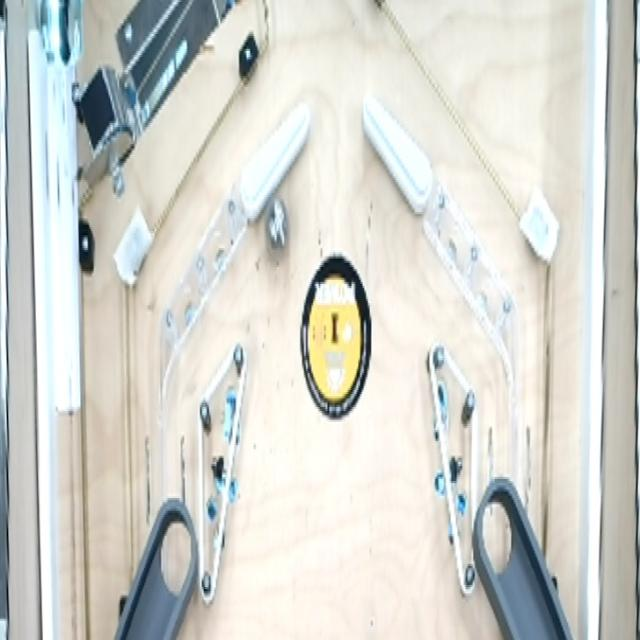ball: (262, 192, 290, 263)
flipper-left: (358, 87, 435, 224)
flipper-right: (237, 94, 313, 225)
